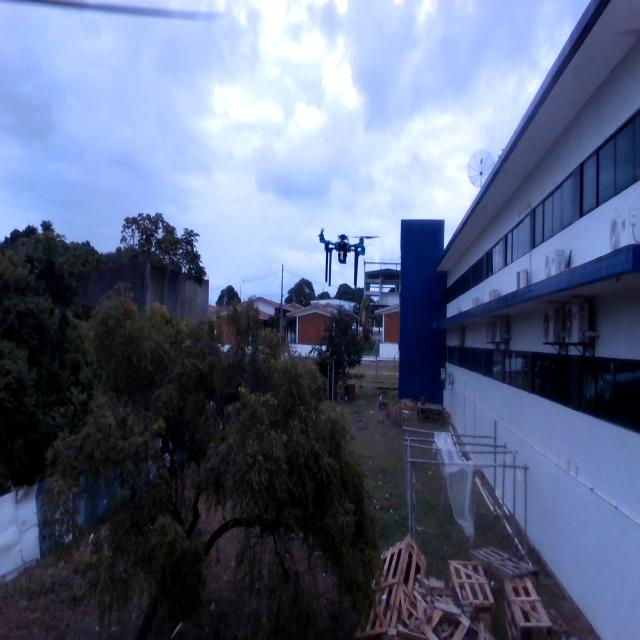-uav-: (307, 210, 388, 314)
